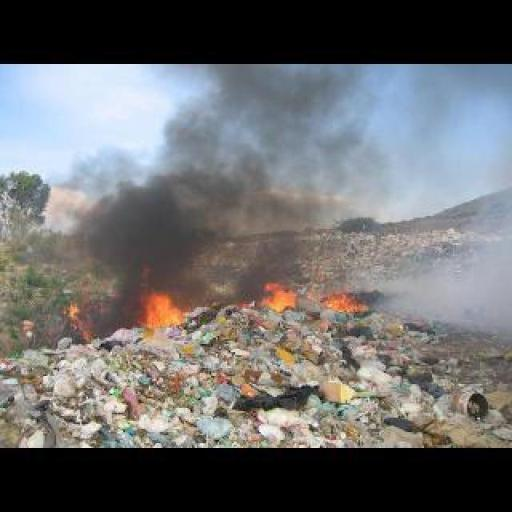smoke: (168, 66, 382, 284), (54, 144, 237, 315), (139, 288, 184, 333), (254, 276, 300, 310), (322, 288, 366, 317), (69, 304, 93, 344)
